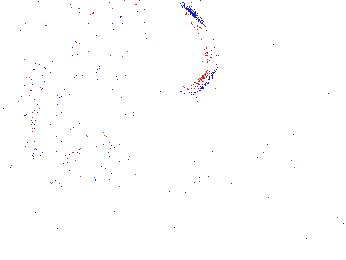moon jellyfish: (108, 1, 217, 95), (18, 6, 121, 73), (185, 47, 268, 93)
